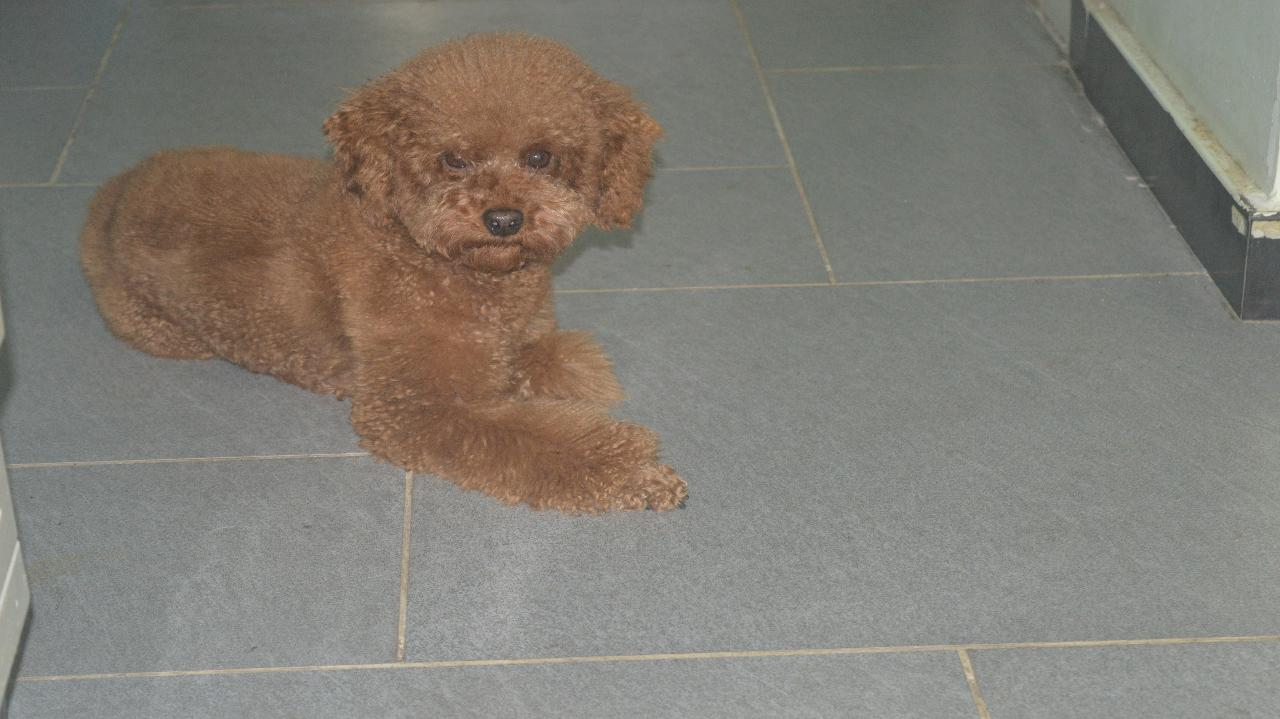zhuangzhuang: (59, 34, 720, 539)
